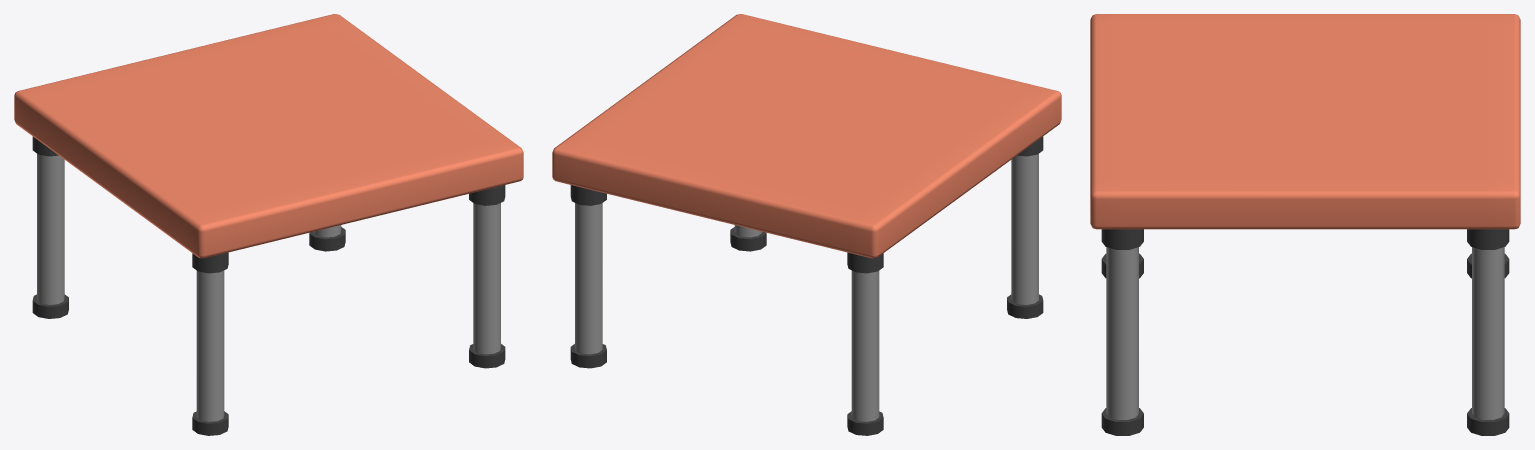
File: Mixed_CoffeeTable_02.fbx
The picture shows the model from 3 angles, left to right: view 1: azimuth 30°, elevation 25°; view 2: azimuth 150°, elevation 25°; view 3: azimuth 270°, elevation 25°; orthographic projection. The views are drawn at different scales.
Parts seen in each view (by area): view 1: Mixed_CoffeeTable_02; view 2: Mixed_CoffeeTable_02; view 3: Mixed_CoffeeTable_02.
Part boxes in pixels (<box>): Mixed_CoffeeTable_02: <box>14,14,523,435</box>; Mixed_CoffeeTable_02: <box>552,14,1061,435</box>; Mixed_CoffeeTable_02: <box>1090,14,1520,435</box>.
Size of the model in its own units: 159 by 101 by 159.
